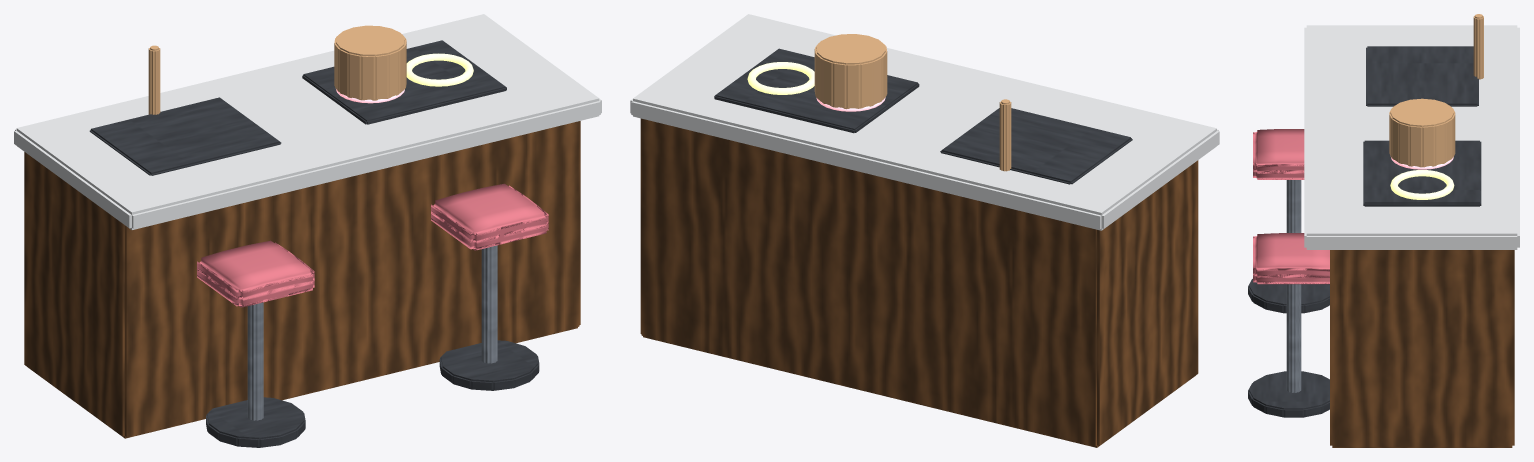
File: furn_kitchen_bar.glb
3 renders of one model, left to right at view 1: azimuth 30°, elevation 25°; view 2: azimuth 150°, elevation 25°; view 3: azimuth 270°, elevation 25°, orthographic. The views are drawn at different scales.
Parts seen in each view (by area): view 1: furn_kitchen_bar; view 2: furn_kitchen_bar; view 3: furn_kitchen_bar.
Boxes of the visible parts, x1,y1,x2,y2 form: furn_kitchen_bar: [14, 14, 601, 447]; furn_kitchen_bar: [630, 14, 1219, 447]; furn_kitchen_bar: [1248, 14, 1519, 447].
Bounding box in the file's own units: 1.94 × 1.2 × 1.06.
Materials: 8 (3 with a texture image).
